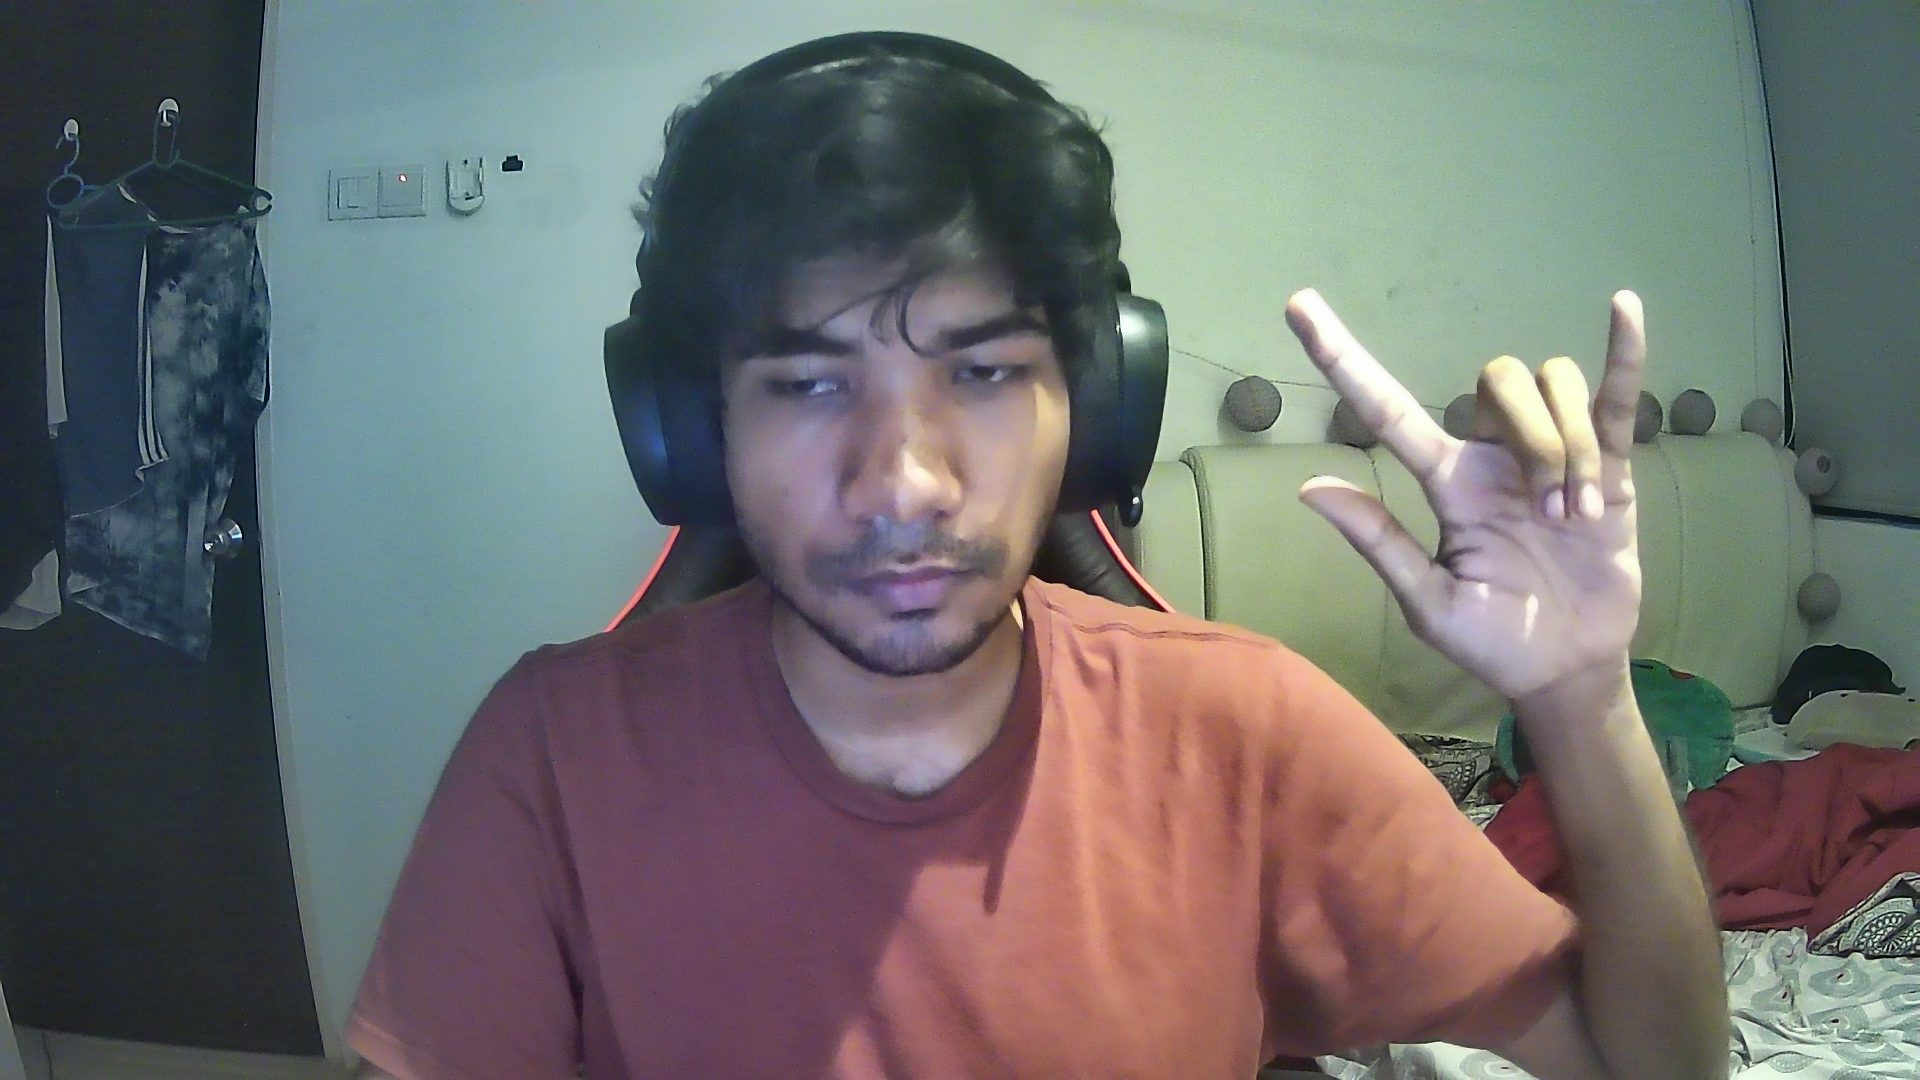I Love You: (1276, 276, 1683, 684)
